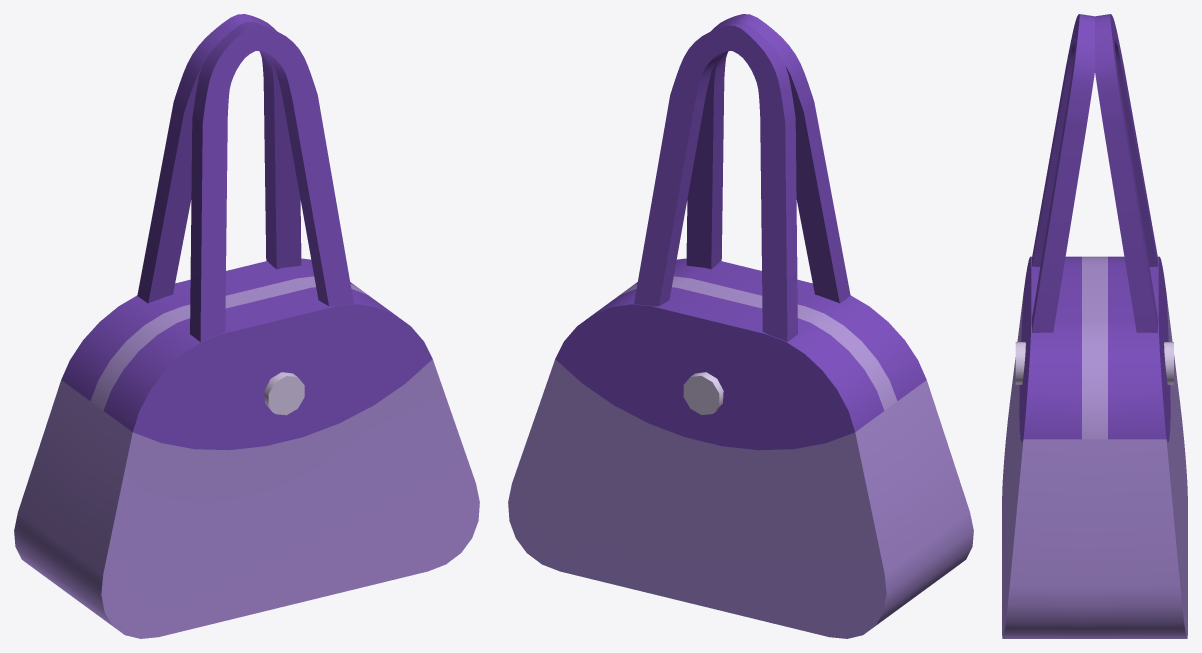
Rendered from Female Handle.fbx.
The picture shows the model from 3 angles, left to right: view 1: azimuth 30°, elevation 25°; view 2: azimuth 150°, elevation 25°; view 3: azimuth 270°, elevation 25°; orthographic projection.
Visible parts, largest first — view 1: Female Handle; view 2: Female Handle; view 3: Female Handle.
Part boxes in pixels (box(x1,y1,x2,y2)): Female Handle: box(14, 14, 479, 638); Female Handle: box(508, 14, 973, 638); Female Handle: box(1002, 14, 1187, 638).
Bounding box in the file's own units: 0.6805 × 0.9458 × 0.2897.
